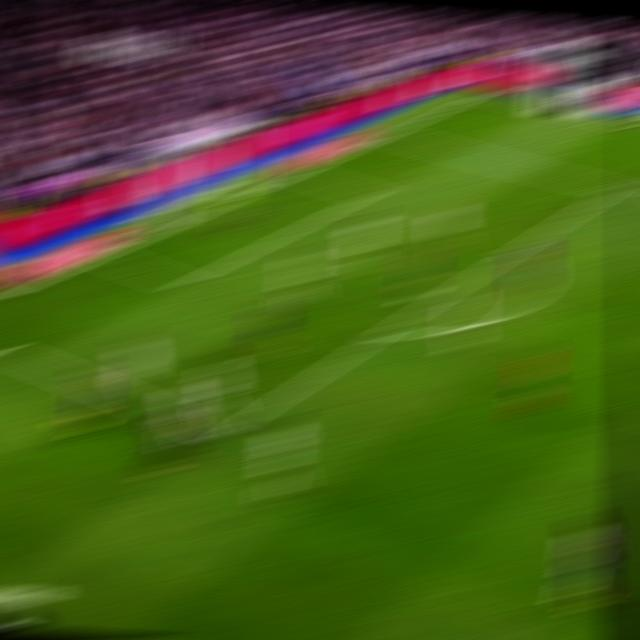bigarea_bottom_inner: (206, 424, 238, 447)
bigarea_top_inner: (600, 180, 630, 196)
bigarea_top_outter: (378, 128, 404, 137)
bottom_arc_area_intersection: (369, 323, 400, 340)
corner: (469, 86, 499, 96)
smallarea_top_inner: (356, 186, 384, 200)
top_arc_area_intersection: (506, 240, 534, 254)
